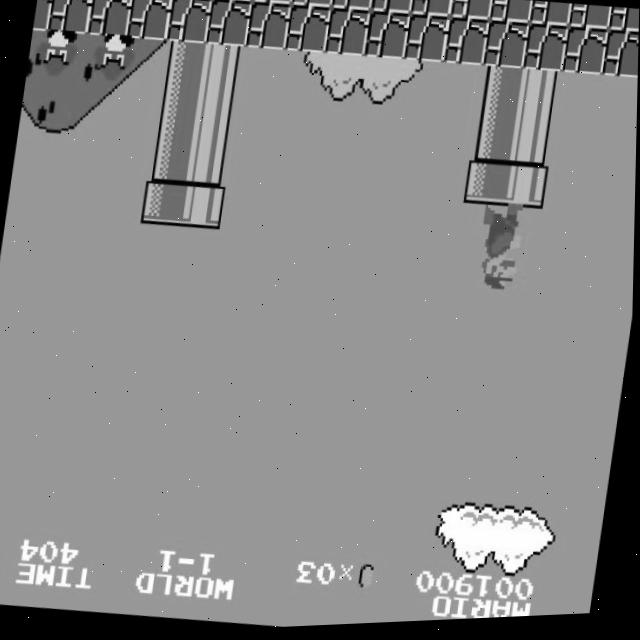0- big_mario: (473, 204, 529, 305)
14- pipe: (510, 117, 557, 170), (476, 68, 523, 121), (192, 89, 239, 142), (153, 86, 200, 139), (159, 40, 206, 93), (516, 72, 563, 124), (470, 114, 517, 166), (199, 44, 246, 96), (147, 132, 194, 184), (186, 136, 233, 187)
15- pipe_head: (180, 180, 227, 233), (140, 177, 187, 229), (503, 164, 550, 215), (464, 160, 510, 212)
17- undestructible_block: (562, 29, 609, 82), (522, 26, 569, 79), (483, 22, 530, 75), (364, 12, 411, 65), (285, 5, 332, 58), (245, 1, 292, 54), (443, 19, 490, 71), (324, 9, 371, 61), (404, 15, 450, 68), (205, 0, 252, 51), (166, 0, 212, 47), (126, 0, 173, 44), (601, 33, 639, 85), (86, 0, 133, 40), (46, 0, 93, 36), (569, 7, 612, 37), (489, 0, 533, 29), (529, 4, 572, 33), (449, 0, 493, 26), (410, 0, 453, 23), (608, 11, 639, 40), (370, 0, 414, 19), (32, 0, 53, 32), (331, 0, 374, 15), (291, 0, 334, 12), (251, 0, 294, 8), (212, 0, 255, 5), (172, 0, 215, 1)
8- goomba: (90, 31, 140, 87), (33, 27, 83, 82)
